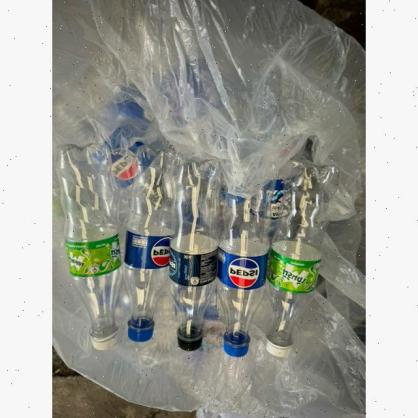bottle: (263, 166, 339, 360), (55, 142, 122, 352), (124, 144, 186, 346), (216, 173, 273, 358), (170, 160, 220, 352)
cap: (265, 333, 297, 358), (88, 330, 119, 350), (222, 337, 254, 356), (128, 321, 156, 342), (178, 331, 204, 351)
label: (63, 231, 122, 282), (269, 254, 327, 292), (218, 250, 269, 291), (123, 232, 174, 270), (171, 250, 219, 285)
